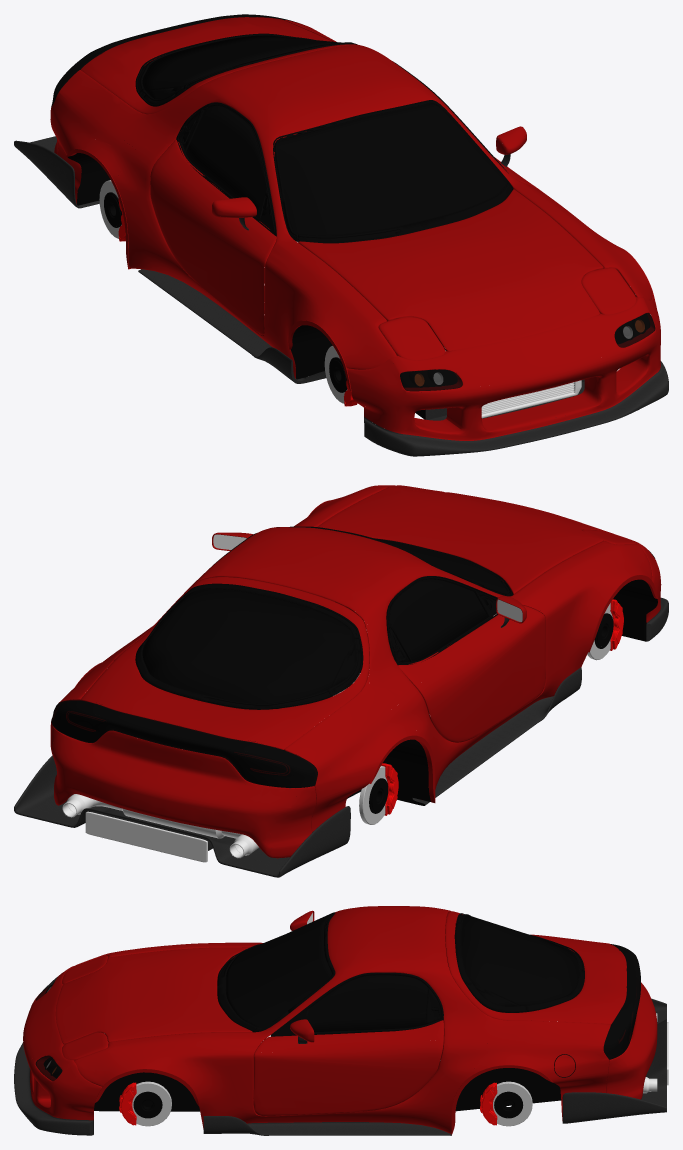
File: Car.glb
3 views of the same model, one above another, from view 1: azimuth 30°, elevation 25°; view 2: azimuth 150°, elevation 25°; view 3: azimuth 270°, elevation 25° (orthographic). The views are drawn at different scales.
Parts seen in each view (by area): view 1: Karoseria, Szyby, Podwozie, Gumy_od_szyb, Nadkola, Szkla_przod, Chlodnica, Panel_swiatel, Swiatla, Hamulec_tyl, Hamulec_przod; view 2: Karoseria, Szyby, Podwozie, Panel_swiatel, Gumy_od_szyb, Nadkola, Tablica_rejestracyjna_tekst, Wydech, Hamulec_tyl, Hamulec_przod, Lusterka, Tablica_rejestracyjna; view 3: Karoseria, Szyby, Podwozie, Gumy_od_szyb, Nadkola, Panel_swiatel, Hamulec_przod, Hamulec_tyl, Szkla_przod.
Part boxes in pixels (x1,y1,x2,y2): Karoseria: (50, 17, 660, 440); Szyby: (142, 35, 507, 235); Podwozie: (14, 136, 668, 456); Gumy_od_szyb: (135, 33, 513, 243); Nadkola: (67, 153, 425, 419); Szkla_przod: (400, 312, 655, 391); Chlodnica: (481, 380, 581, 418); Panel_swiatel: (51, 14, 299, 106); Swiatla: (100, 17, 649, 387); Hamulec_tyl: (99, 180, 125, 241); Hamulec_przod: (324, 346, 357, 406); Karoseria: (50, 485, 661, 858); Szyby: (142, 538, 507, 703); Podwozie: (14, 597, 668, 877); Panel_swiatel: (51, 700, 317, 787); Gumy_od_szyb: (135, 526, 513, 709); Nadkola: (347, 579, 657, 805); Tablica_rejestracyjna_tekst: (89, 813, 202, 860); Wydech: (62, 794, 258, 858); Hamulec_tyl: (359, 763, 398, 824); Hamulec_przod: (587, 599, 623, 660); Lusterka: (213, 534, 522, 621); Tablica_rejestracyjna: (85, 811, 207, 862); Karoseria: (23, 906, 657, 1134); Szyby: (226, 915, 578, 1032); Podwozie: (14, 998, 666, 1135); Gumy_od_szyb: (217, 912, 584, 1036); Nadkola: (93, 1054, 575, 1134); Panel_swiatel: (603, 944, 640, 1059); Hamulec_przod: (119, 1081, 171, 1126); Hamulec_tyl: (480, 1081, 532, 1126); Szkla_przod: (35, 976, 62, 1081).
Bounding box in the file's own units: 5.14 × 2.98 × 11.69.
Materials: 17 (1 with a texture image).
